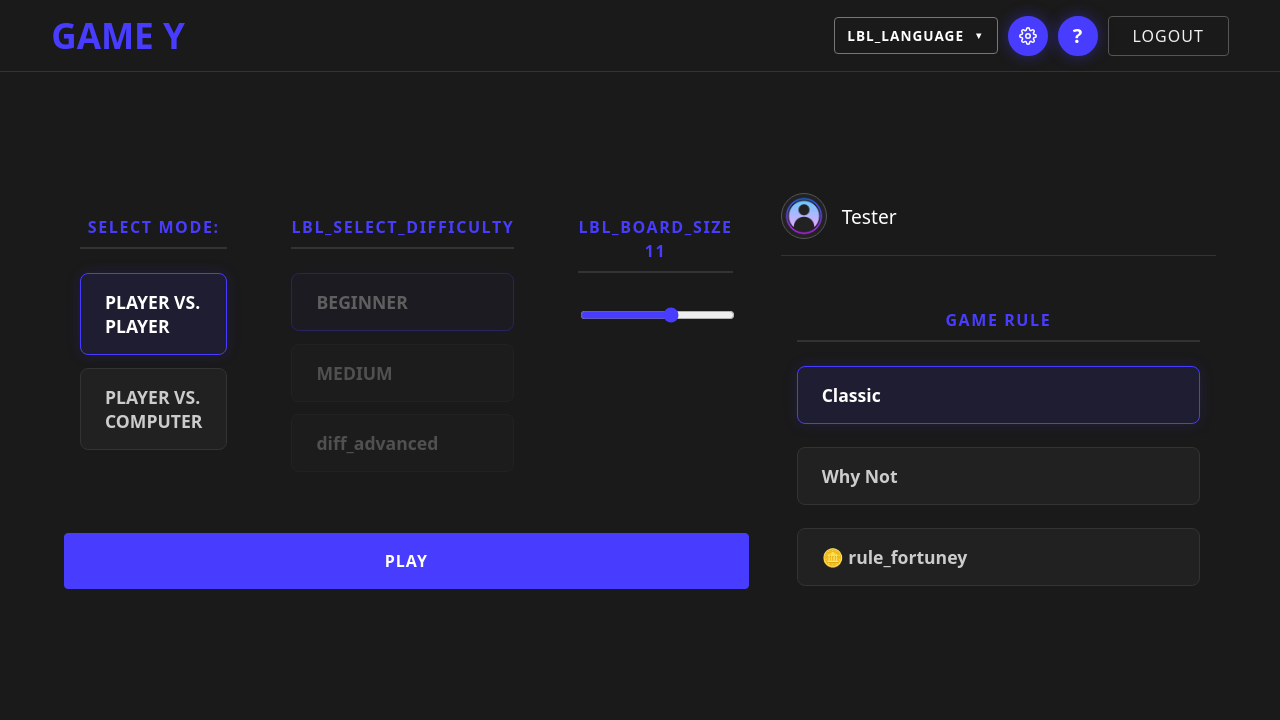
Scenario: App & Lobby Coverage Booster › Lobby: Toggles the How to Play modal
The image size is (1280, 720).
Expected: the text "HOW TO PLAY: GAME Y" is not shown
Click the button titled "How to Play".
click(1078, 36)  # box [1058,16,1098,56]
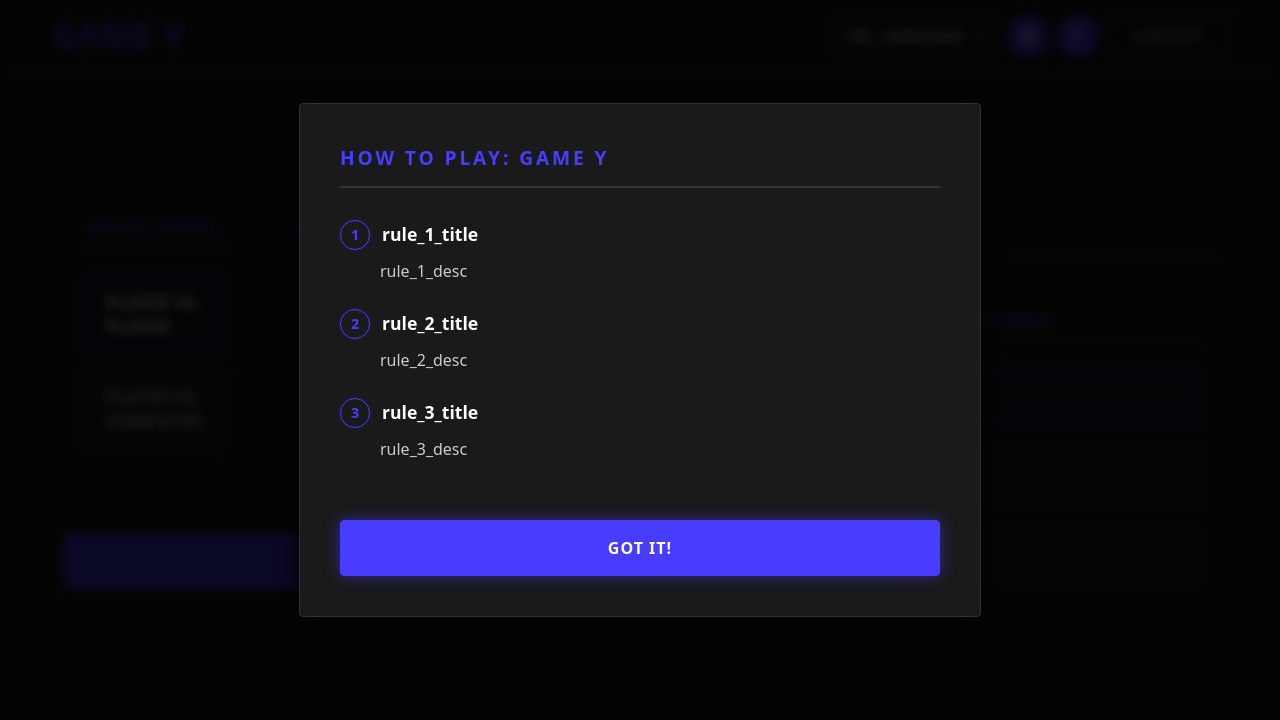
Expected: the heading "HOW TO PLAY: GAME Y" is shown, [340,144,940,188]
Click the button "Got it!".
click(640, 548)  # box [340,520,940,576]
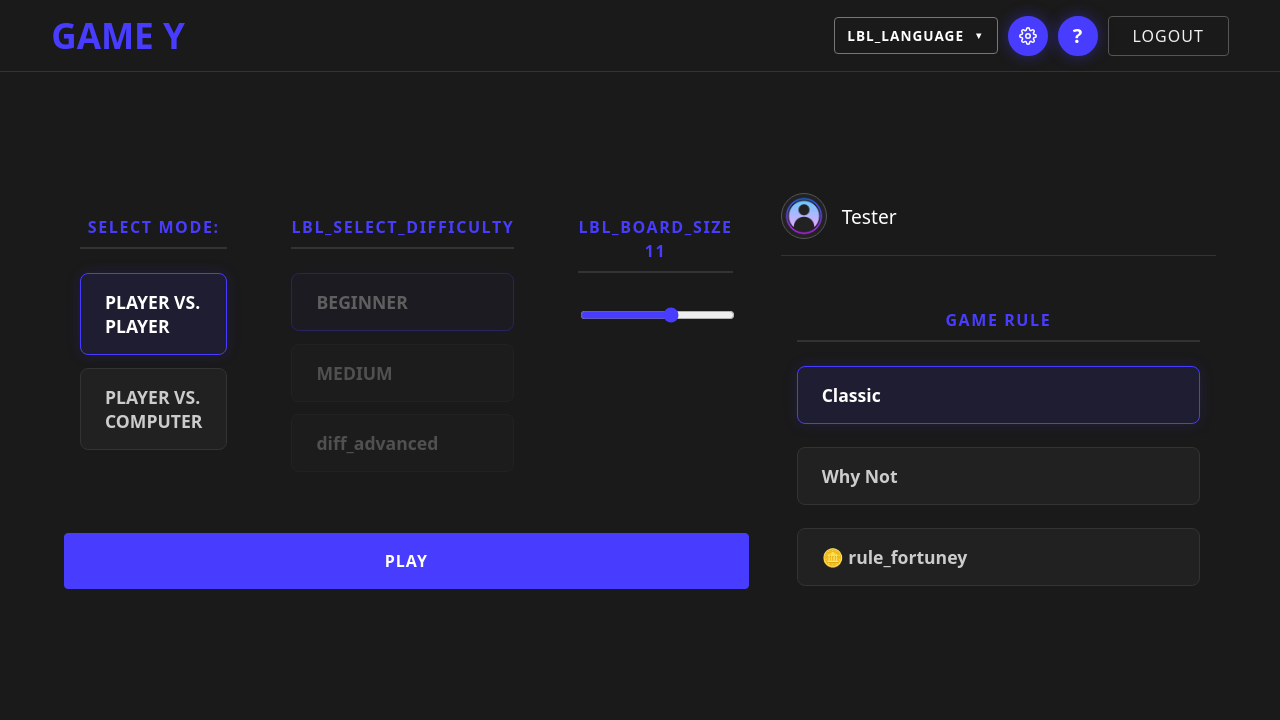
Expected: the heading "HOW TO PLAY: GAME Y" is gone
